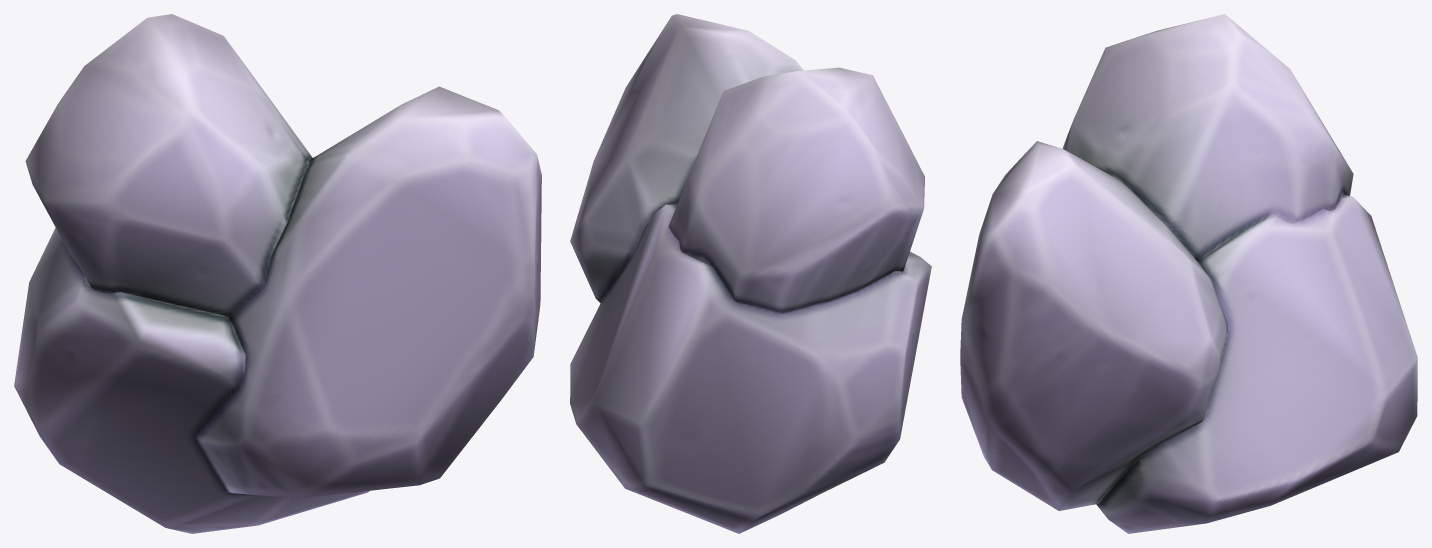
Rendered from SM_Gem_Diamond_001.fbx.
The picture shows the model from 3 angles, left to right: view 1: azimuth 30°, elevation 25°; view 2: azimuth 150°, elevation 25°; view 3: azimuth 270°, elevation 25°; orthographic projection. The views are drawn at different scales.
Visible parts, largest first — view 1: SM_Gem_Diamond_001; view 2: SM_Gem_Diamond_001; view 3: SM_Gem_Diamond_001.
Part boxes in pixels (box(x1,y1,x2,y2)): SM_Gem_Diamond_001: box(14, 14, 541, 533); SM_Gem_Diamond_001: box(570, 14, 931, 533); SM_Gem_Diamond_001: box(960, 14, 1417, 533).
Size of the model in its own units: 21.15 by 25.45 by 22.08.
